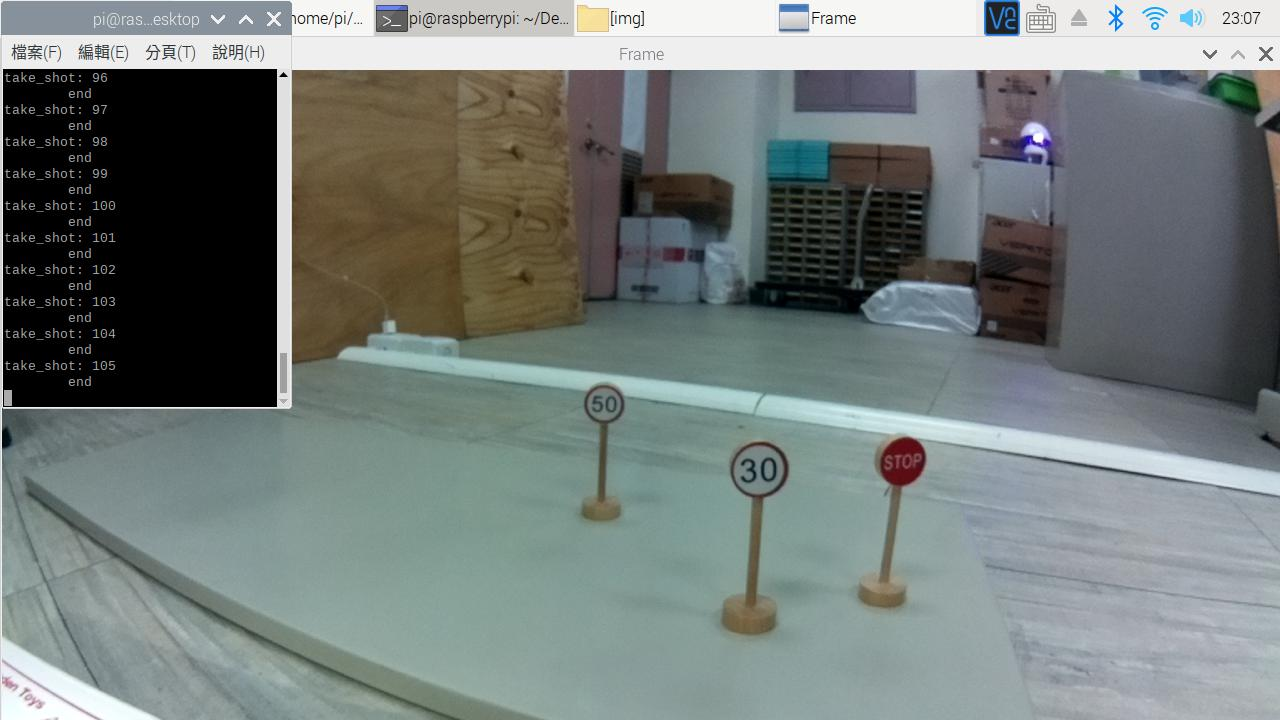Speed30: (720, 433, 801, 505)
Speed50: (583, 379, 637, 427)
Stop: (877, 430, 934, 495)
